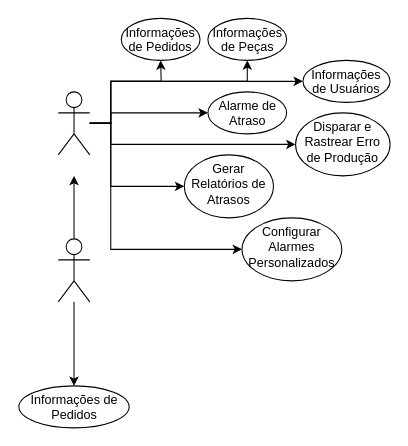
Some shapes in this 408 by 446 pixel diagram are drawn without their labels. Here are the shapes that lost their labels. From the top down, the centre of each, then its label:
At (73,123): "Operador".
At (73,270): "Gerente".
